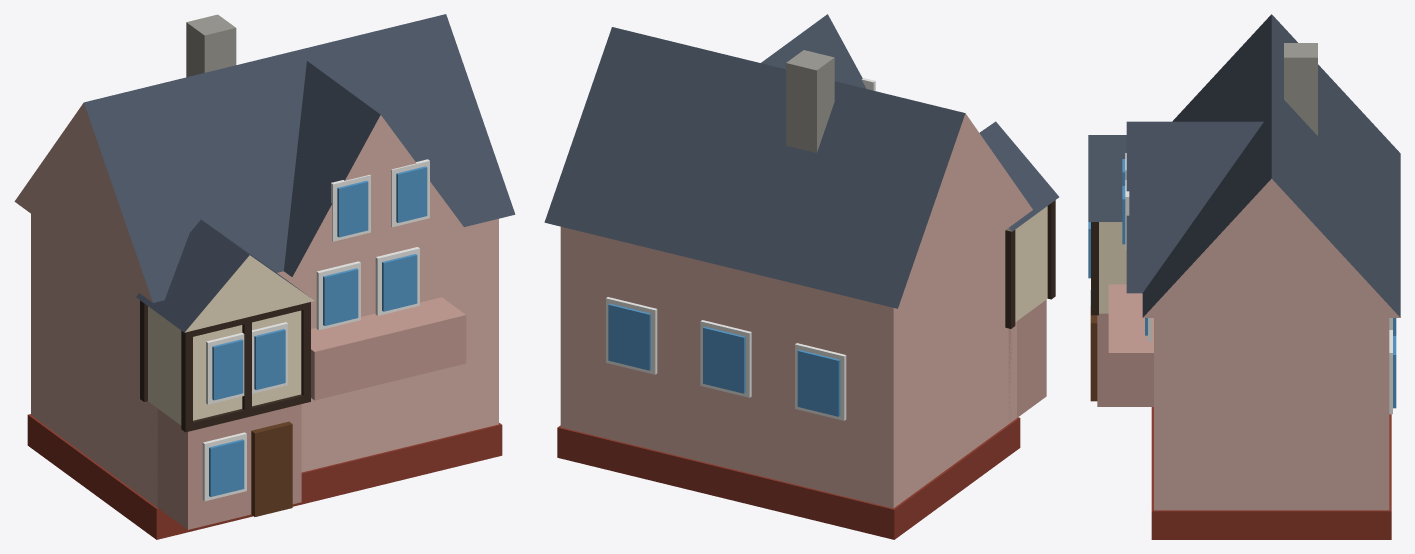
File: 49_amalienau_villa_3.obj
3 renders of one model, left to right at view 1: azimuth 30°, elevation 25°; view 2: azimuth 150°, elevation 25°; view 3: azimuth 270°, elevation 25°, orthographic. The views are drawn at different scales.
Parts seen in each view (by area): view 1: 49_amalienau_villa_3; view 2: 49_amalienau_villa_3; view 3: 49_amalienau_villa_3.
Boxes of the visible parts, x1,y1,x2,y2 form: 49_amalienau_villa_3: [14, 14, 515, 539]; 49_amalienau_villa_3: [544, 14, 1059, 539]; 49_amalienau_villa_3: [1088, 14, 1400, 539].
Size of the model in its own units: 1.72 by 1.92 by 1.38.
